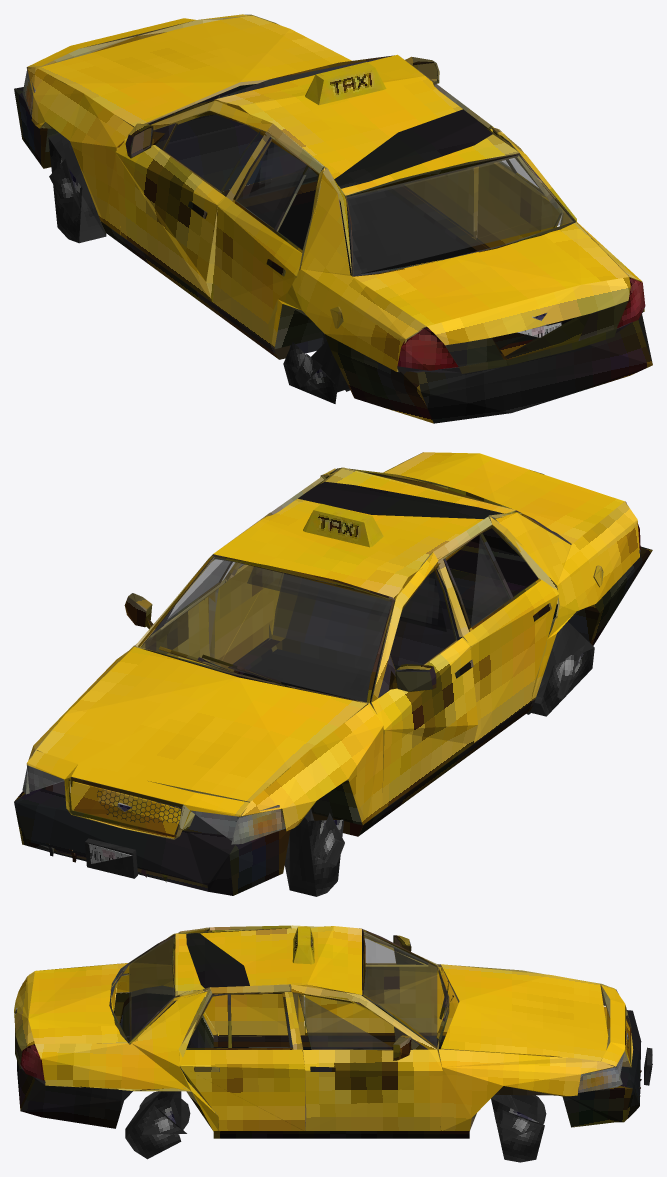
File: taxi_cv_lod2.glb
3 renders of one model, top to bottom at view 1: azimuth 30°, elevation 25°; view 2: azimuth 150°, elevation 25°; view 3: azimuth 270°, elevation 25°, orthographic. The views are drawn at different scales.
Parts seen in each view (by area): view 1: crown_vic_taxi_main_frame_0, crown_vic_taxi_glass_window_0, crown_vic_taxi_wheels_and_parts_0, crown_vic_taxi_glass_0, taxi_sign_taxi_sign_0; view 2: crown_vic_taxi_main_frame_0, crown_vic_taxi_glass_window_0, crown_vic_taxi_wheels_and_parts_0, crown_vic_taxi_glass_0, taxi_sign_taxi_sign_0, crown_vic_taxi_plate_0; view 3: crown_vic_taxi_main_frame_0, crown_vic_taxi_glass_window_0, crown_vic_taxi_wheels_and_parts_0, crown_vic_taxi_glass_0, taxi_sign_taxi_sign_0.
Boxes of the visible parts, x1=… form: crown_vic_taxi_main_frame_0: x1=14, y1=14, x2=652, y2=423; crown_vic_taxi_glass_window_0: x1=236, y1=142, x2=573, y2=274; crown_vic_taxi_wheels_and_parts_0: x1=48, y1=133, x2=550, y2=403; crown_vic_taxi_glass_0: x1=22, y1=69, x2=645, y2=370; taxi_sign_taxi_sign_0: x1=305, y1=62, x2=386, y2=105; crown_vic_taxi_main_frame_0: x1=14, y1=452, x2=652, y2=895; crown_vic_taxi_glass_window_0: x1=141, y1=517, x2=532, y2=702; crown_vic_taxi_wheels_and_parts_0: x1=117, y1=471, x2=594, y2=896; crown_vic_taxi_glass_0: x1=22, y1=501, x2=640, y2=844; taxi_sign_taxi_sign_0: x1=303, y1=503, x2=383, y2=547; crown_vic_taxi_plate_0: x1=85, y1=838, x2=137, y2=878; crown_vic_taxi_main_frame_0: x1=14, y1=925, x2=641, y2=1138; crown_vic_taxi_glass_window_0: x1=129, y1=931, x2=437, y2=1049; crown_vic_taxi_wheels_and_parts_0: x1=15, y1=1008, x2=628, y2=1162; crown_vic_taxi_glass_0: x1=20, y1=983, x2=624, y2=1092; taxi_sign_taxi_sign_0: x1=292, y1=926, x2=314, y2=964.
Bounding box in the file's own units: 2.18 × 1.64 × 5.28.
Materials: 6 (6 with a texture image).
